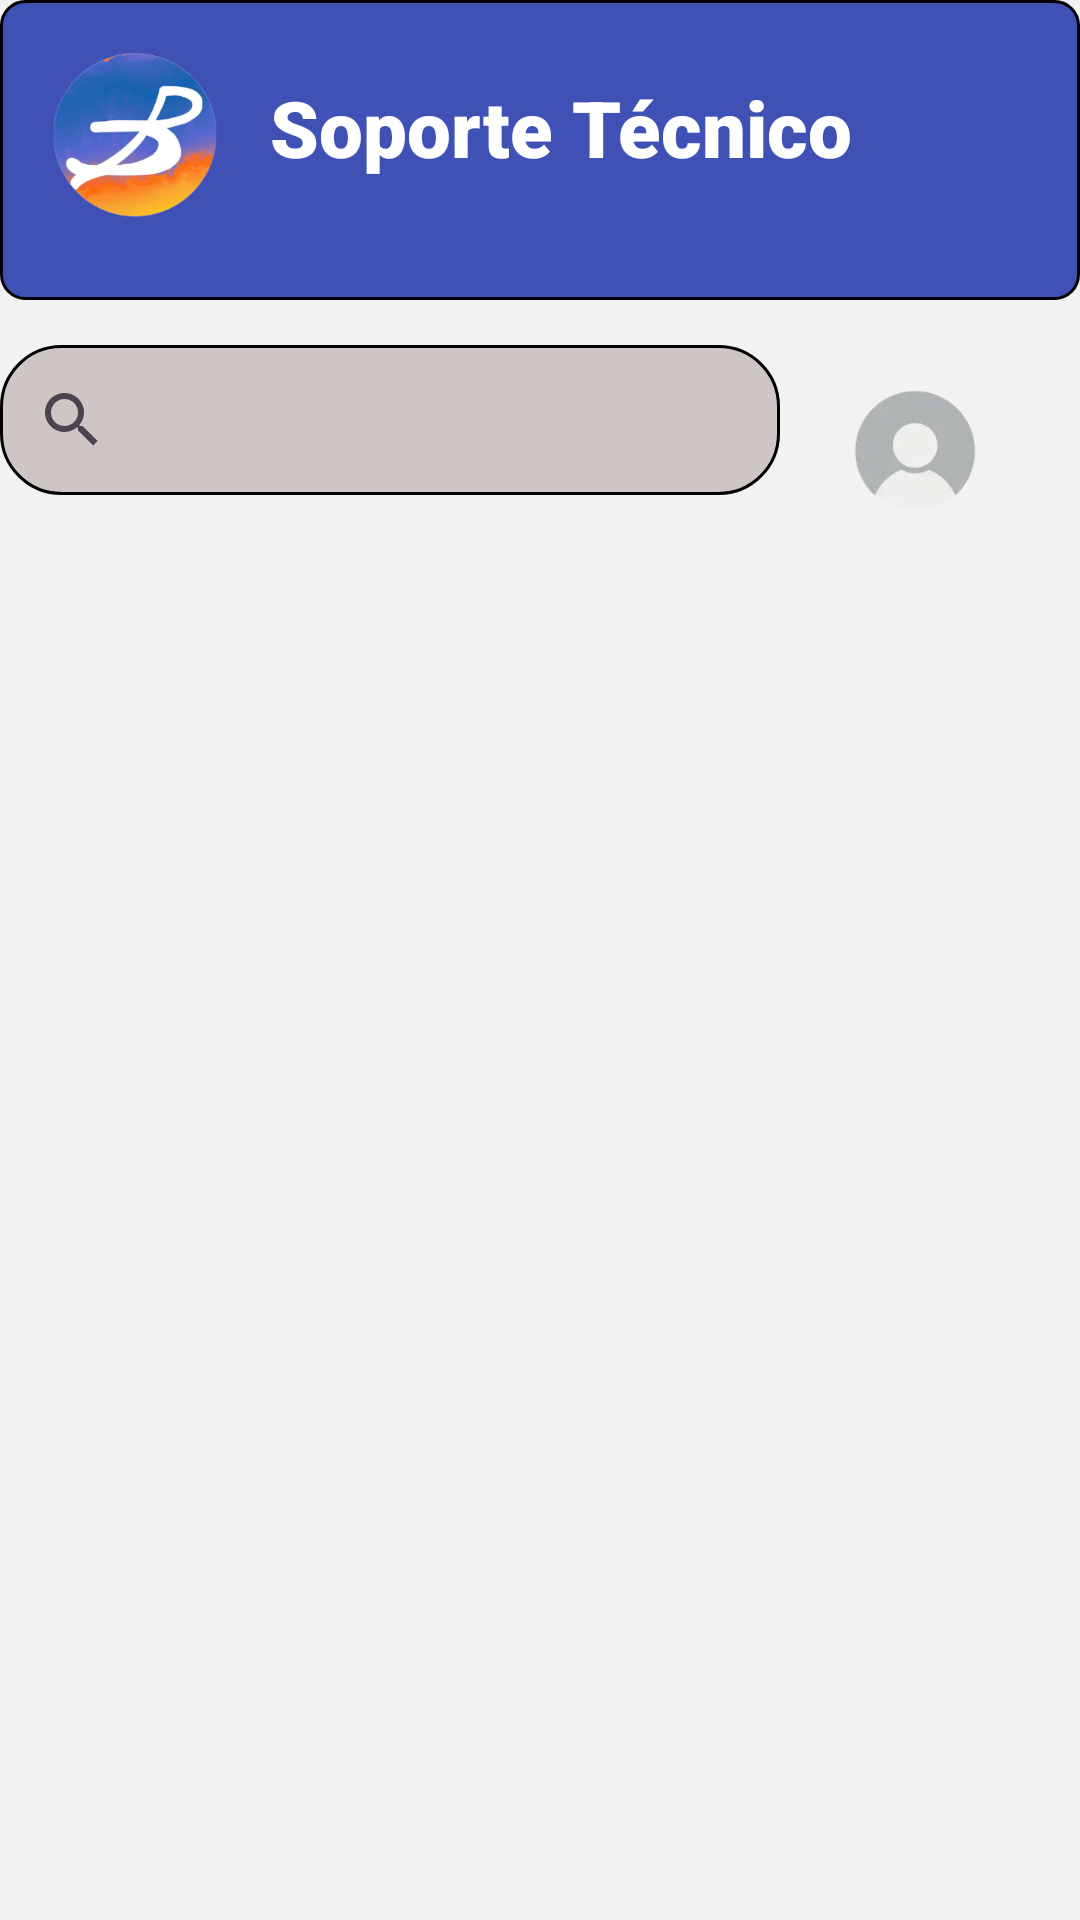

Where to tap for icons on this 1080px×1920px app screen, as point (x, y):
iconoperfil: point (915, 443)
